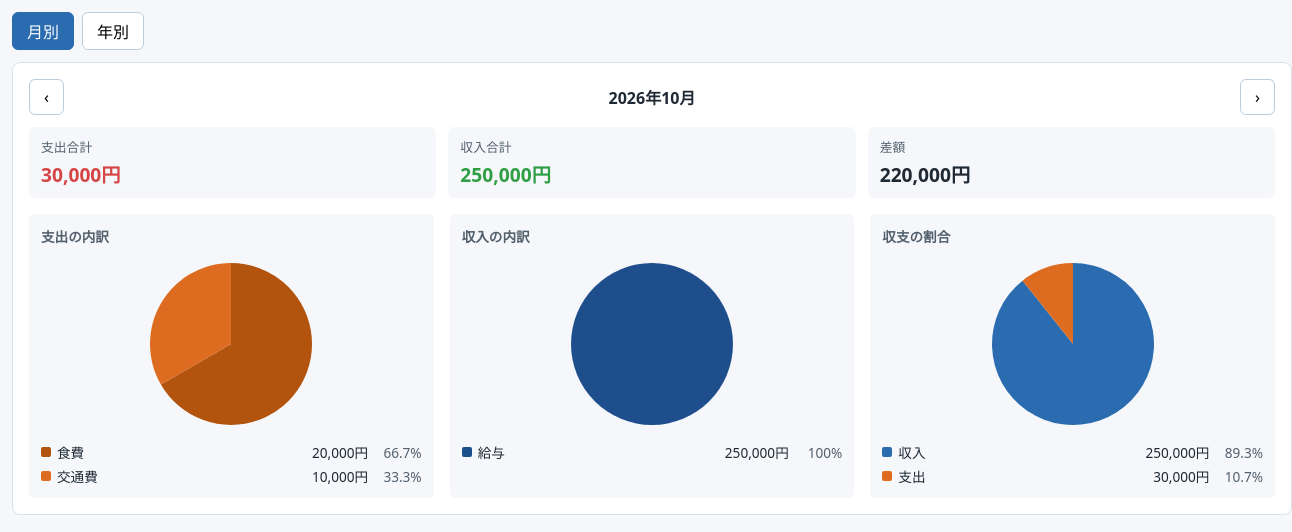
Test: SummaryView › moves to the previous month and distinguishes a negative balance
The image size is (1292, 532).
Click the button named "前の月": (46, 97) [29,79,64,115]
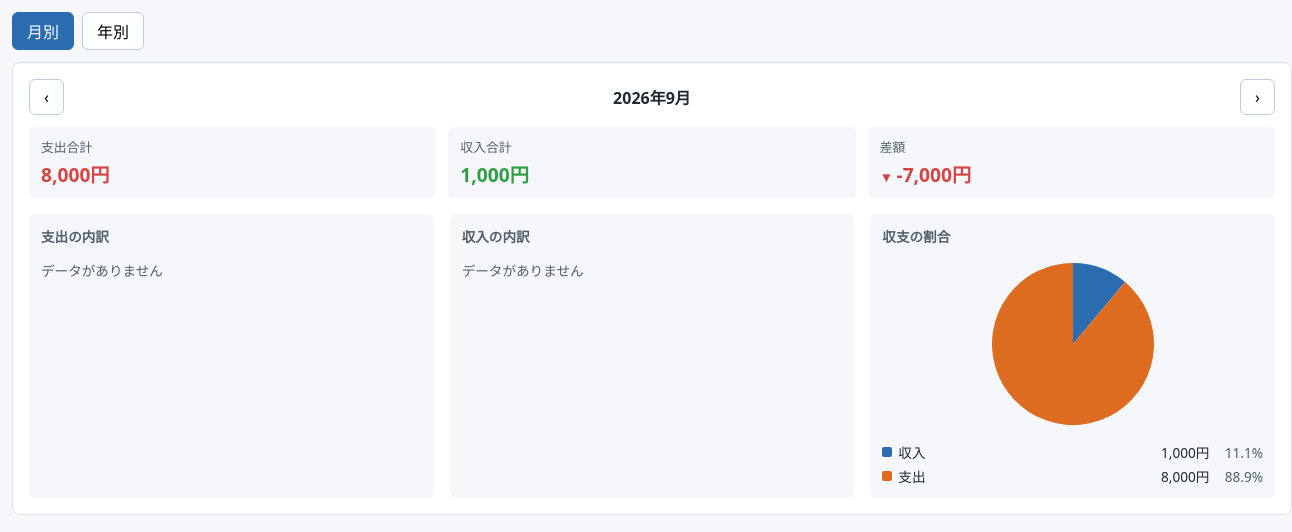
Expected: the text with test id "period" reads "2026年9月", [613,87,691,109]
Expected: the text with test id "balance" reads "-7,000円", [896,161,971,188]
